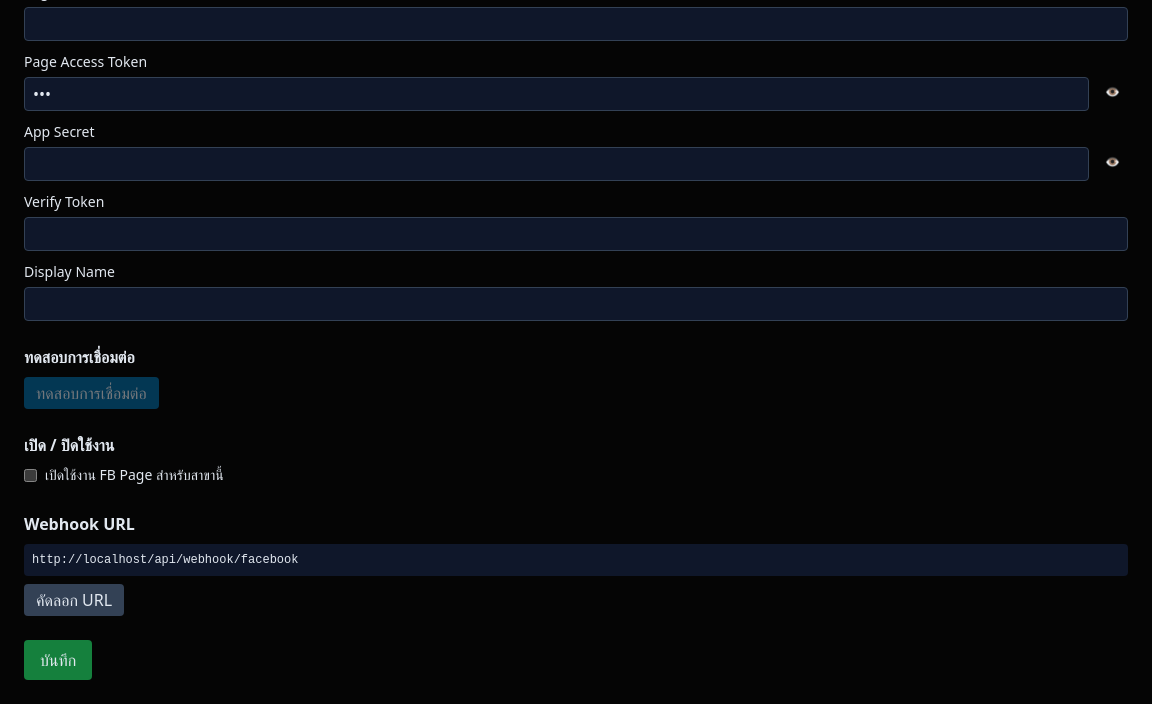
V75 Item 3 — FbSettingsTab UI › FST1.7 — validation errors surfaced (enabled=true without creds)
The width and height of the screenshot is (1152, 704).
(page scrolled)
What coordinates should you click on to do the following:
click the button "บันทึก"
I would click on:
 (58, 660)
Its box is [24, 640, 92, 680].
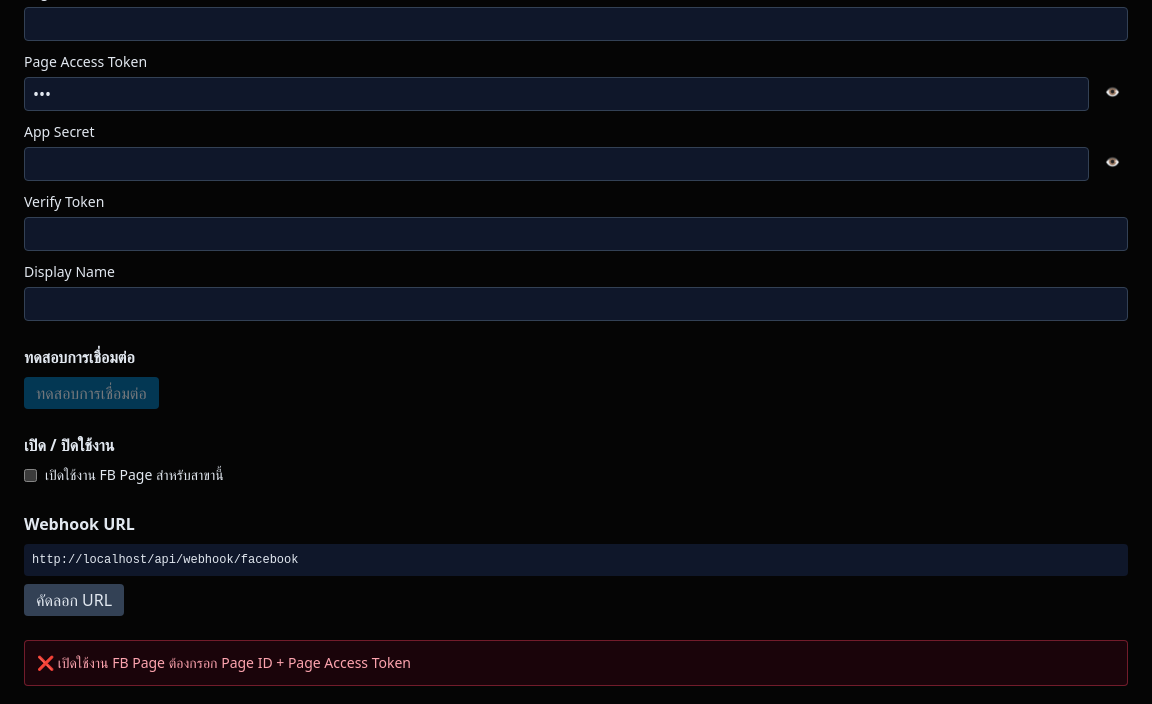
Check: the text "❌ เปิดใช้งาน FB Page ต้องกรอก Page ID + Page Access Token" is shown, box [37, 652, 411, 672]
